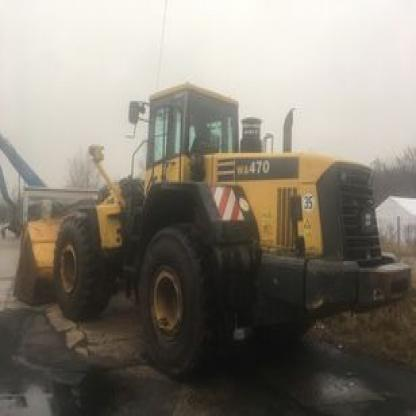bull_dozer/loader/grader: (14, 67, 409, 389)
